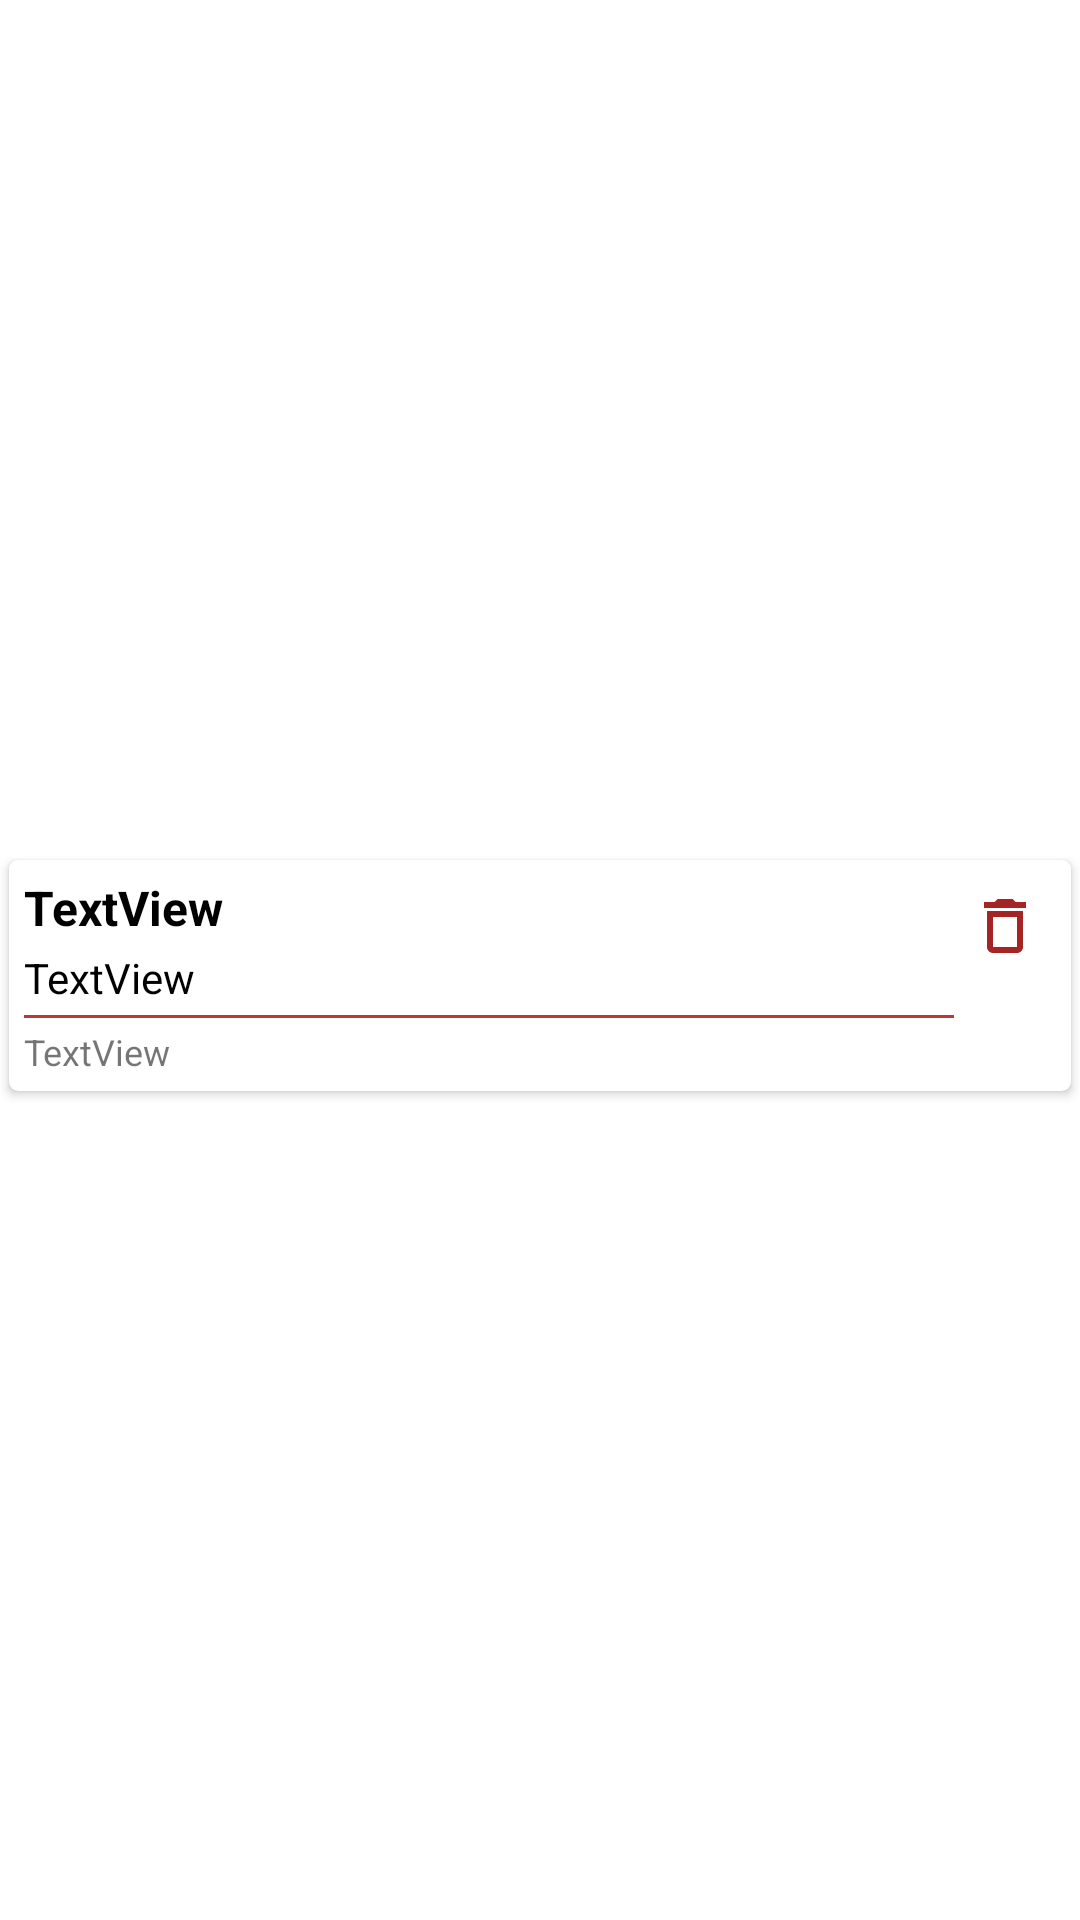

Icon bounding boxes for this 1080px×1920px phone screenshot, format (x1, y1, x2, y2):
delete: (984, 899, 1026, 953)
